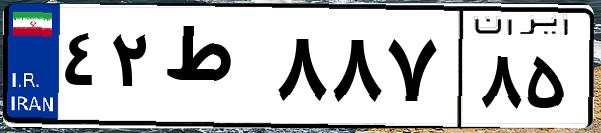2: (110, 28, 158, 98)
4: (57, 26, 110, 100)
5: (525, 38, 570, 115)
7: (385, 28, 445, 110)
8: (270, 28, 330, 110), (330, 28, 385, 110), (475, 38, 525, 113)
ط: (158, 20, 270, 120)
